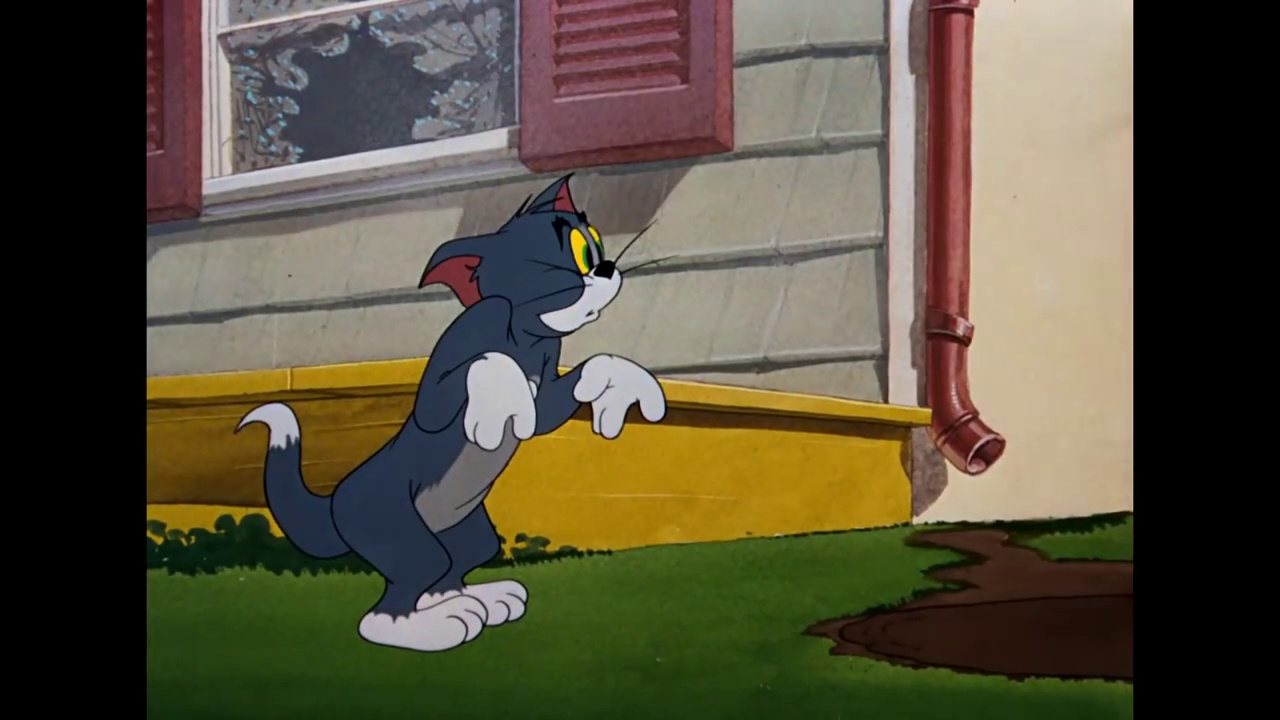tom: (417, 170, 643, 349)
